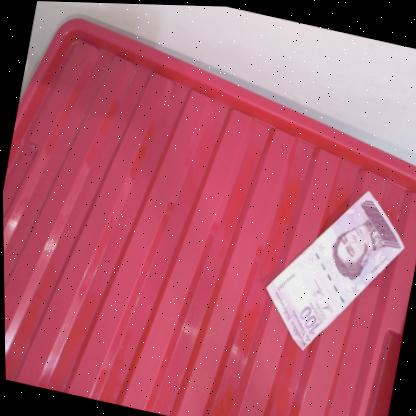one_hundred-front-vef: (252, 167, 415, 367)
